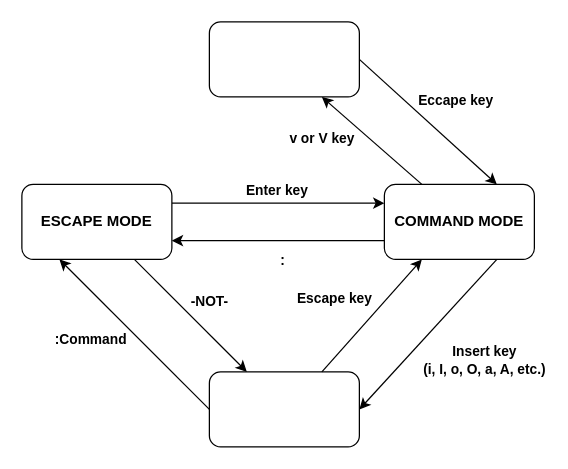
The diagram is 568 pixels wide and 469 high, and some of its shapes have lost their labels. Here are the shapes that lost their labels. From the top down, the centre of each, then its label:
the point at 283,59: VISUAL MODE
the point at 283,409: INSERT MODE
